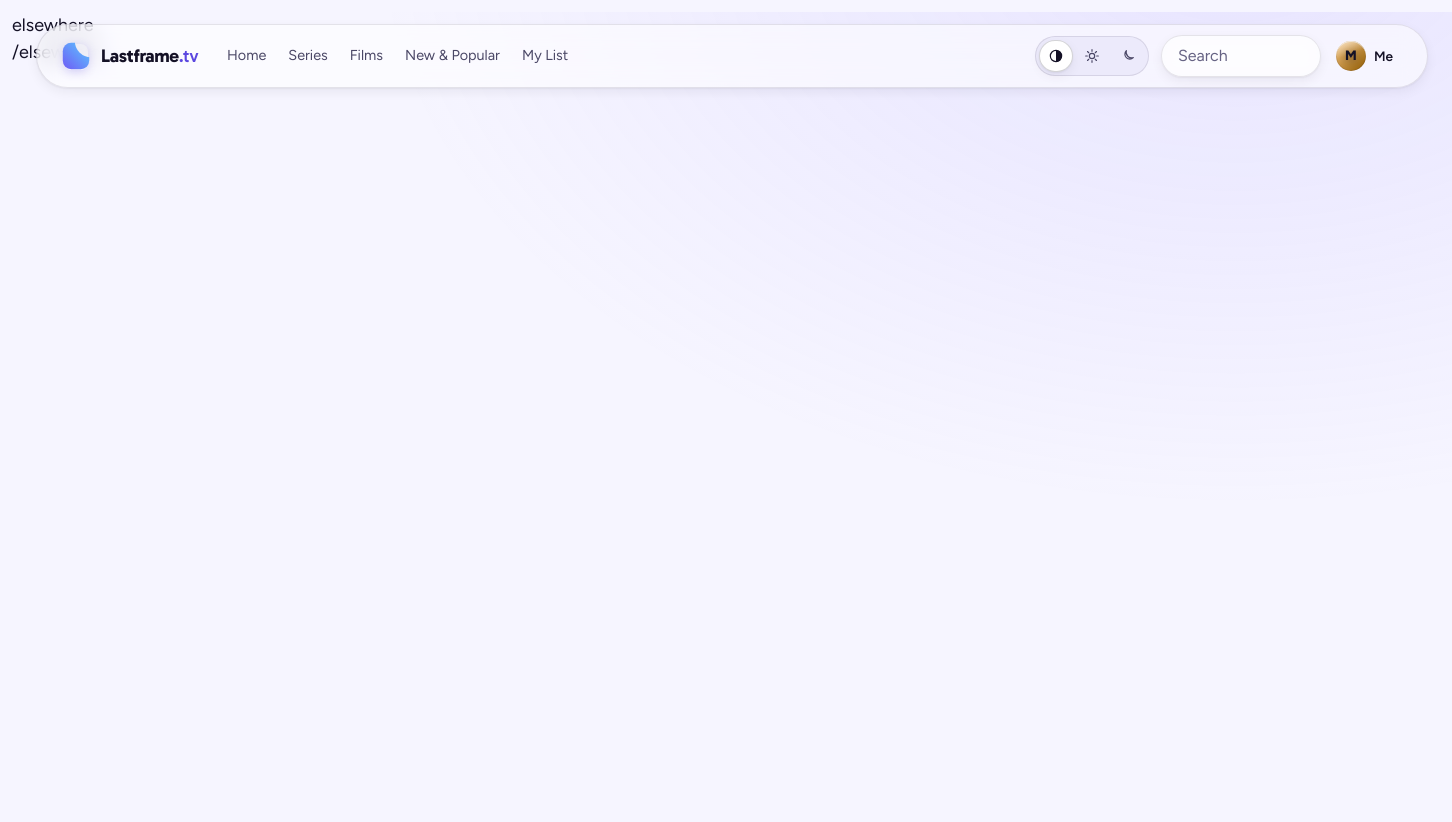
Test case: SearchPage › navbar search navigates to /search?q=
Type "glass" into the search field named "Search titles" at (1241, 56), box [1161,35,1321,77]
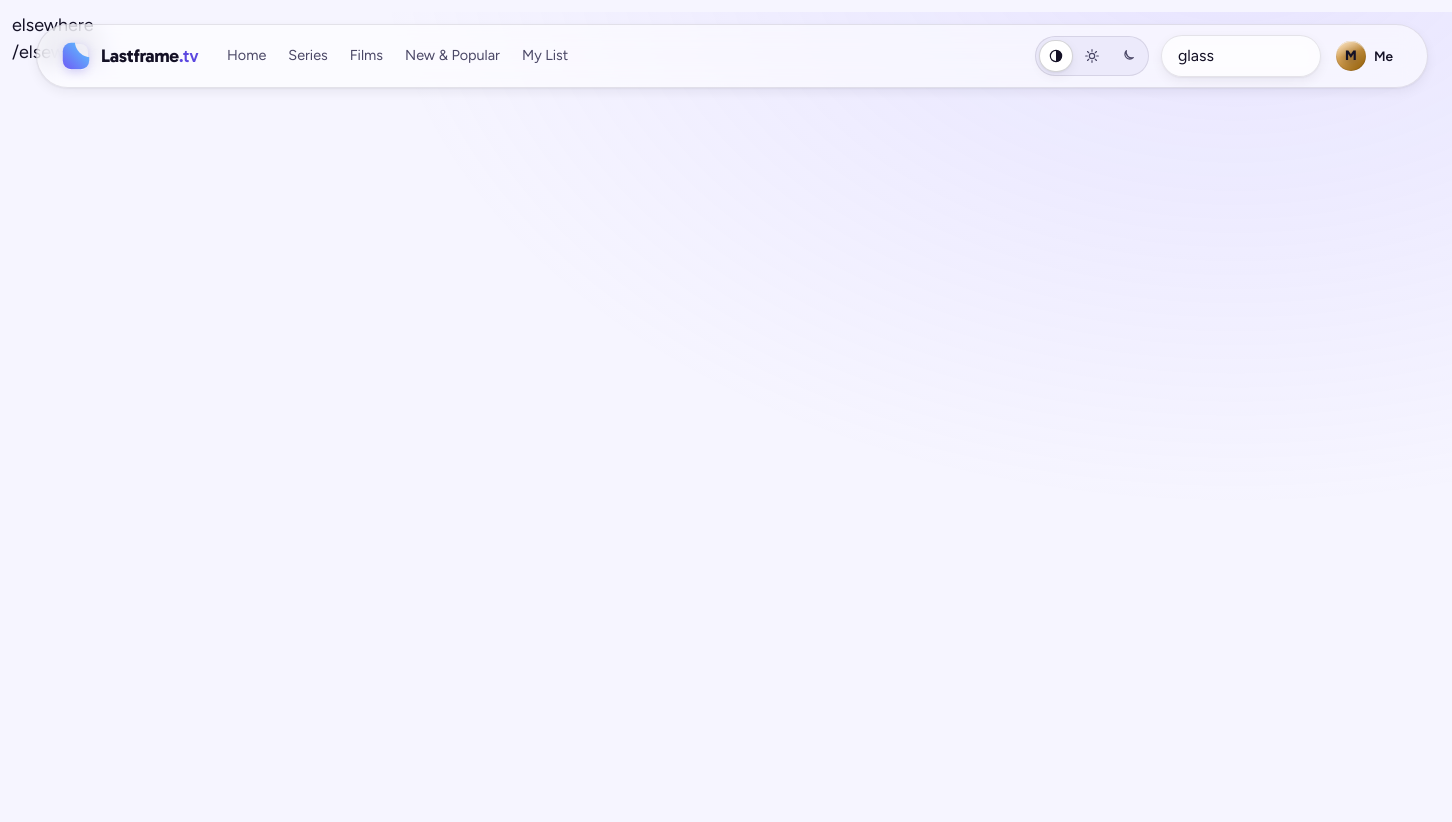
Submit the form named "Search titles", box [1161,35,1321,77]
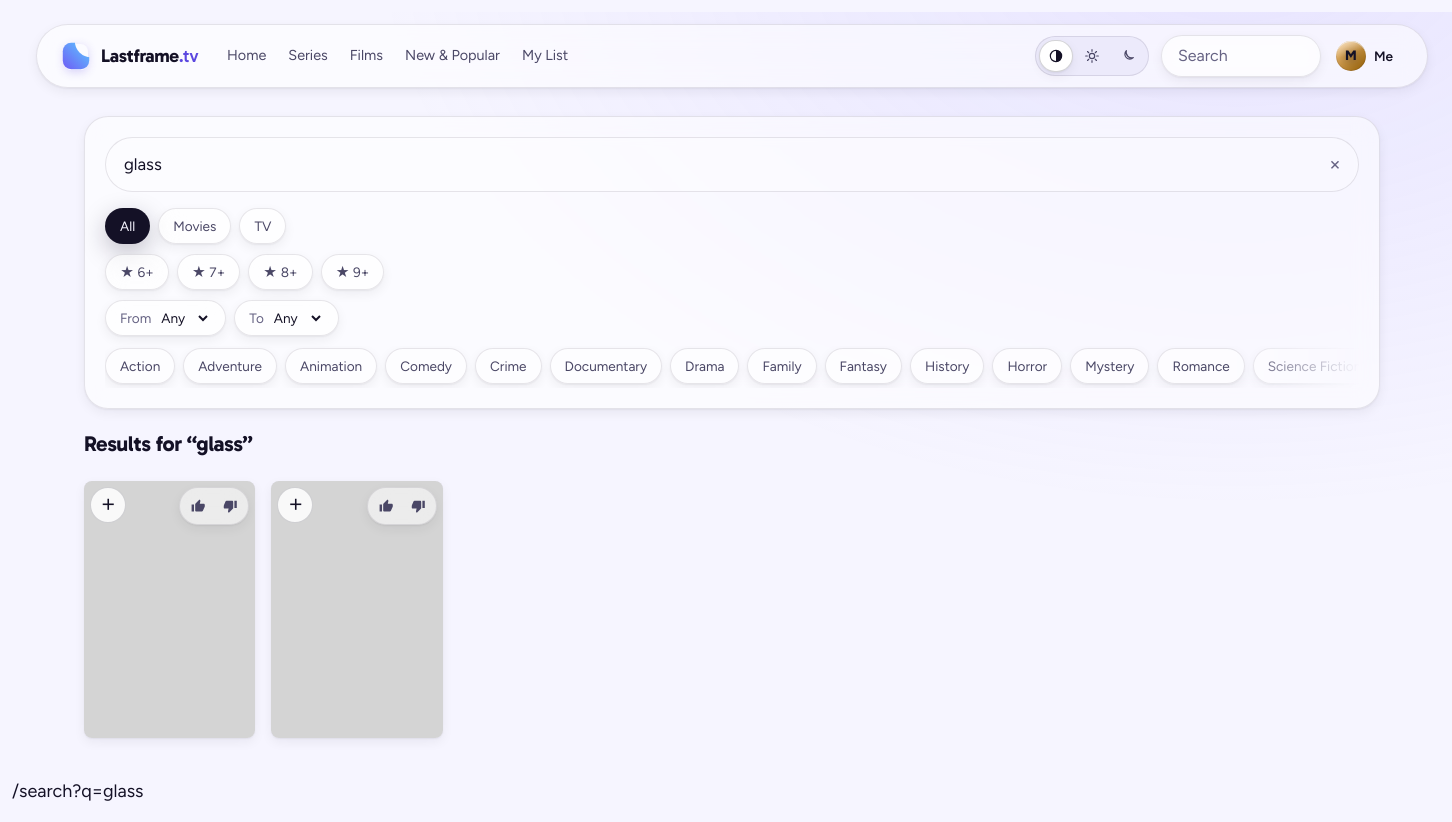
Expected: the text with test id "location" reads "/search?q=glass", [12,780,143,802]
Expected: the search field named "Search titles" holds "glass", [105,137,1359,192]
